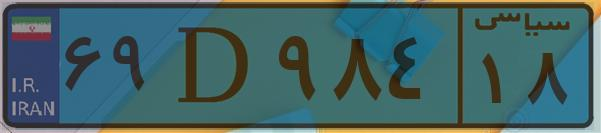1: (475, 38, 525, 113)
4: (385, 28, 445, 110)
6: (57, 26, 110, 100)
8: (330, 28, 385, 110), (525, 38, 570, 115)
9: (270, 28, 330, 110), (110, 28, 158, 98)
D: (158, 12, 270, 120)
